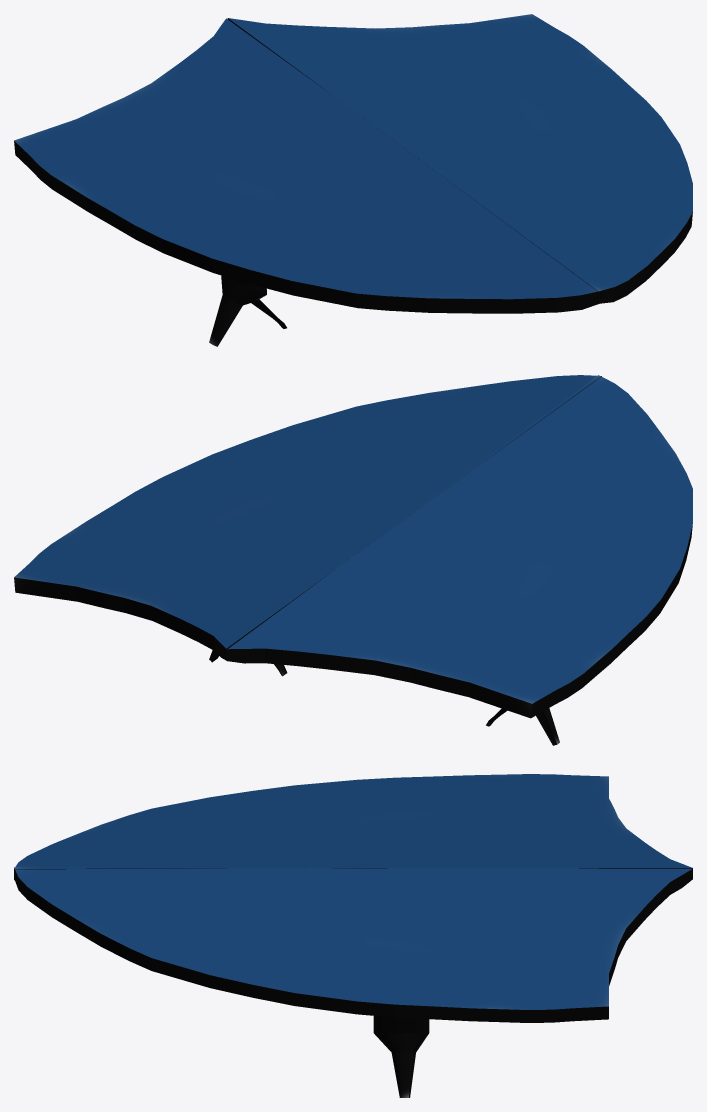
Rendered from 3d.ShieldModle.fbx.
3 renders of one model, top to bottom at view 1: azimuth 30°, elevation 25°; view 2: azimuth 150°, elevation 25°; view 3: azimuth 270°, elevation 25°, orthographic. The views are drawn at different scales.
Visible parts, largest first — view 1: Plane; view 2: Plane; view 3: Plane.
Part boxes in pixels (x1,y1,x2,y2): Plane: [14, 14, 692, 346]; Plane: [14, 375, 692, 745]; Plane: [14, 774, 692, 1097].
Bounding box in the file's own units: 402 × 122 × 489.
1 material, 1 textured.
